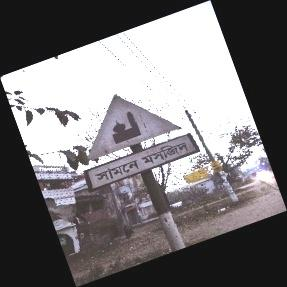Mosque in front: (85, 94, 187, 185)
